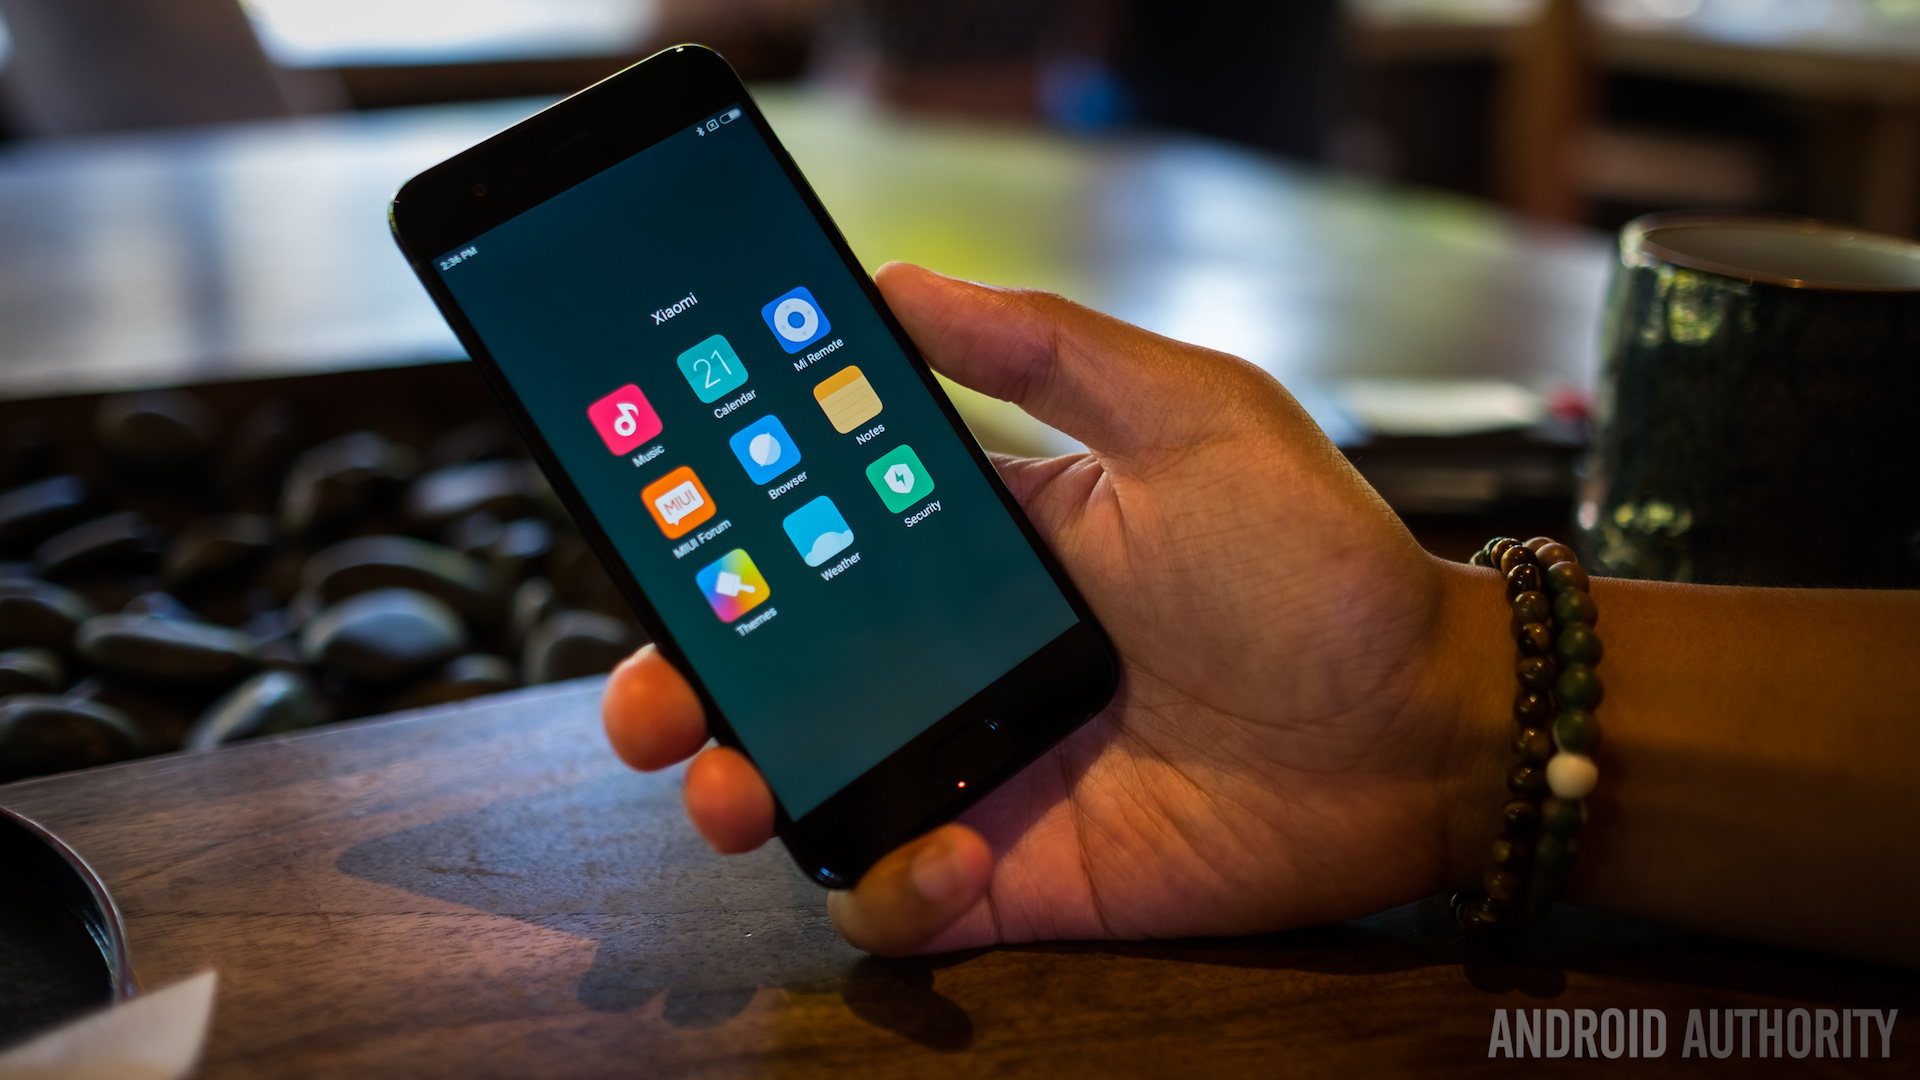smartphone: (386, 38, 1130, 891)
